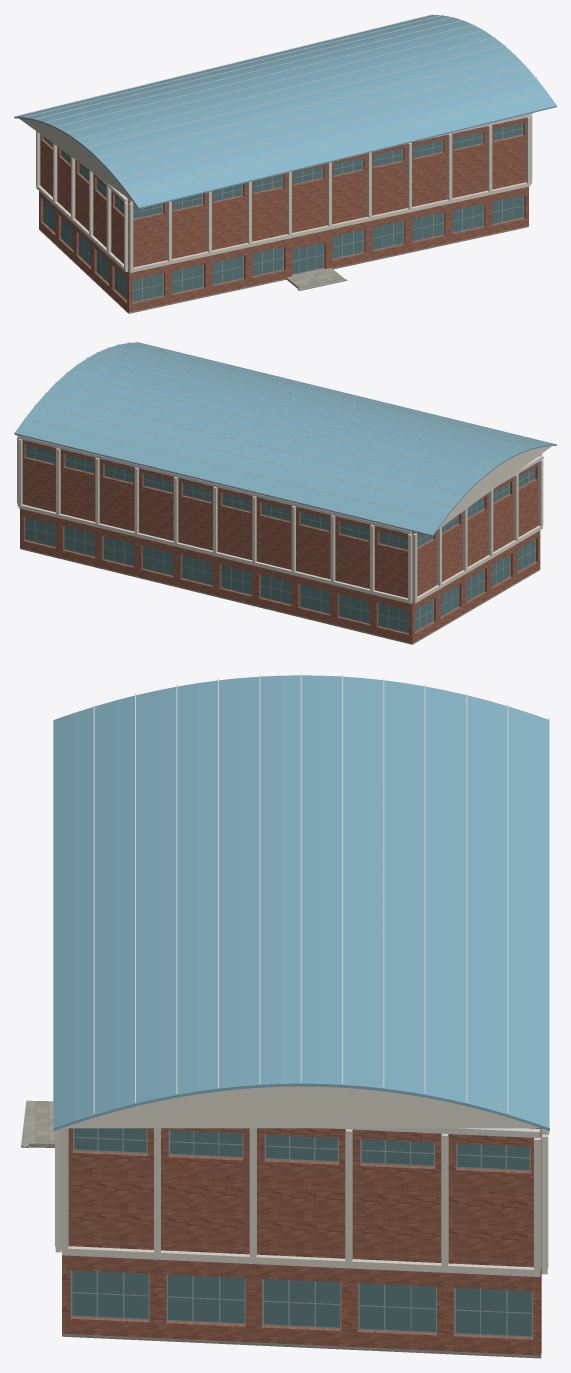
3 renders of one model, top to bottom at view 1: azimuth 30°, elevation 25°; view 2: azimuth 150°, elevation 25°; view 3: azimuth 270°, elevation 25°, orthographic. The views are drawn at different scales.
Visible parts, largest first — view 1: hall2__blue-roof, hall2__brick, hall2__glass, hall2__cream, hall2__white, hall2__frame, hall2__stone, hall2__threshold-dining; view 2: hall2__blue-roof, hall2__brick, hall2__glass, hall2__cream, hall2__white, hall2__frame, hall2__stone; view 3: hall2__blue-roof, hall2__brick, hall2__cream, hall2__glass, hall2__white, hall2__frame, hall2__stone, hall2__threshold-dining.
Part boxes in pixels (x1,y1,x2,y2): hall2__blue-roof: (14,15,556,208); hall2__brick: (39,118,528,312); hall2__glass: (43,123,523,301); hall2__cream: (19,108,553,272); hall2__white: (14,14,546,203); hall2__frame: (43,123,524,302); hall2__stone: (39,225,528,313); hall2__threshold-dining: (286,268,343,288); hall2__blue-roof: (14,342,556,536); hall2__brick: (20,440,540,643); hall2__glass: (25,445,535,632); hall2__cream: (17,436,551,603); hall2__white: (14,342,547,534); hall2__frame: (25,445,535,633); hall2__stone: (20,547,540,644); hall2__blue-roof: (53,675,549,1130); hall2__brick: (62,1128,541,1355); hall2__cream: (55,1086,548,1276); hall2__glass: (72,1128,531,1336); hall2__white: (93,673,549,1137); hall2__frame: (70,1128,532,1337); hall2__stone: (62,1334,541,1358); hall2__threshold-dining: (29,1101,54,1147).
Size of the model in its own units: 44.08 by 14.04 by 24.08.
7 materials, 2 textured.
